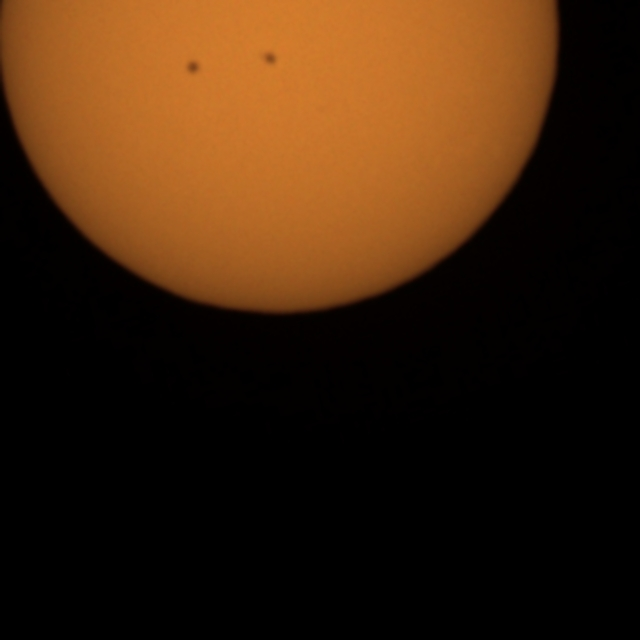sunspot: (258, 48, 280, 69), (183, 58, 203, 78)
